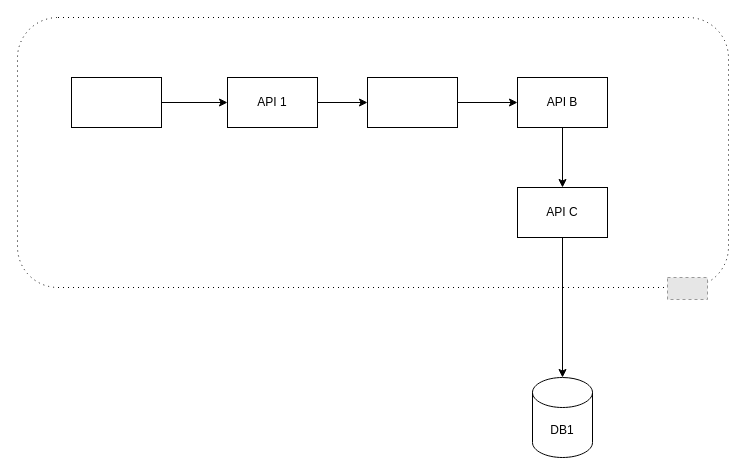
This 746x475 diagram has some shape labels left out. Grey dashed boxes stand in for pictures. Here are the shapes that lost their labels. From the top down, the centre of each, then its label:
the point at 116,102: BFF API
the point at 412,102: API A
